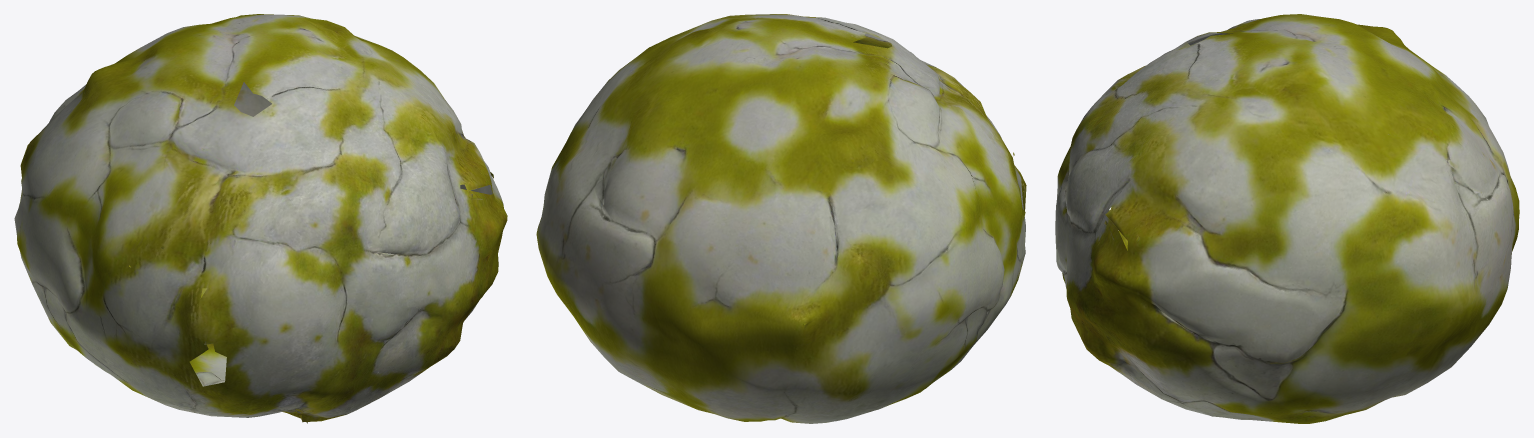
Rendered from RoundedSton v5.glb.
3 views of the same model, side by side, from view 1: azimuth 30°, elevation 25°; view 2: azimuth 150°, elevation 25°; view 3: azimuth 270°, elevation 25° (orthographic). The views are drawn at different scales.
Visible parts, largest first — view 1: Mesh0; view 2: Mesh0; view 3: Mesh0.
Boxes of the visible parts, box(x1,y1,x2,y2) form: Mesh0: box(14, 14, 507, 423); Mesh0: box(536, 14, 1026, 423); Mesh0: box(1055, 14, 1519, 423).
Bounding box in the file's own units: 1.98 × 1.63 × 1.97.
Materials: 1 (1 with a texture image).
